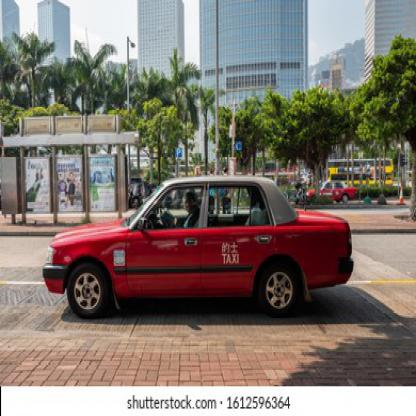taxi: (41, 167, 356, 325)
